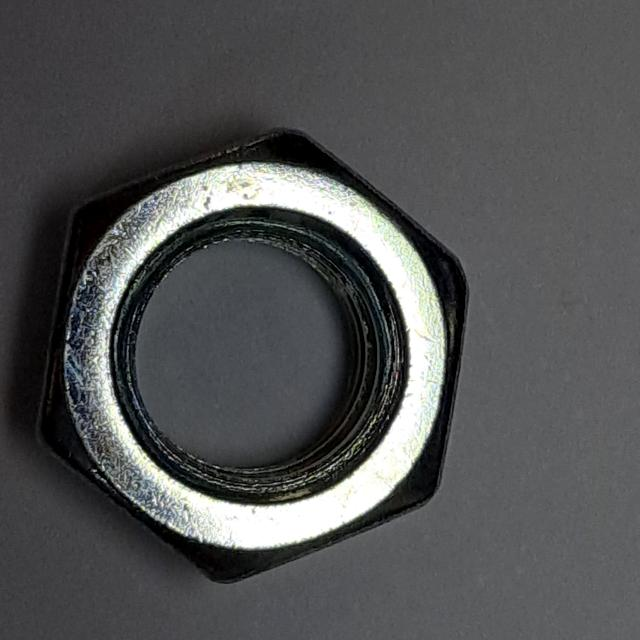Excellent: (23, 113, 480, 595)
